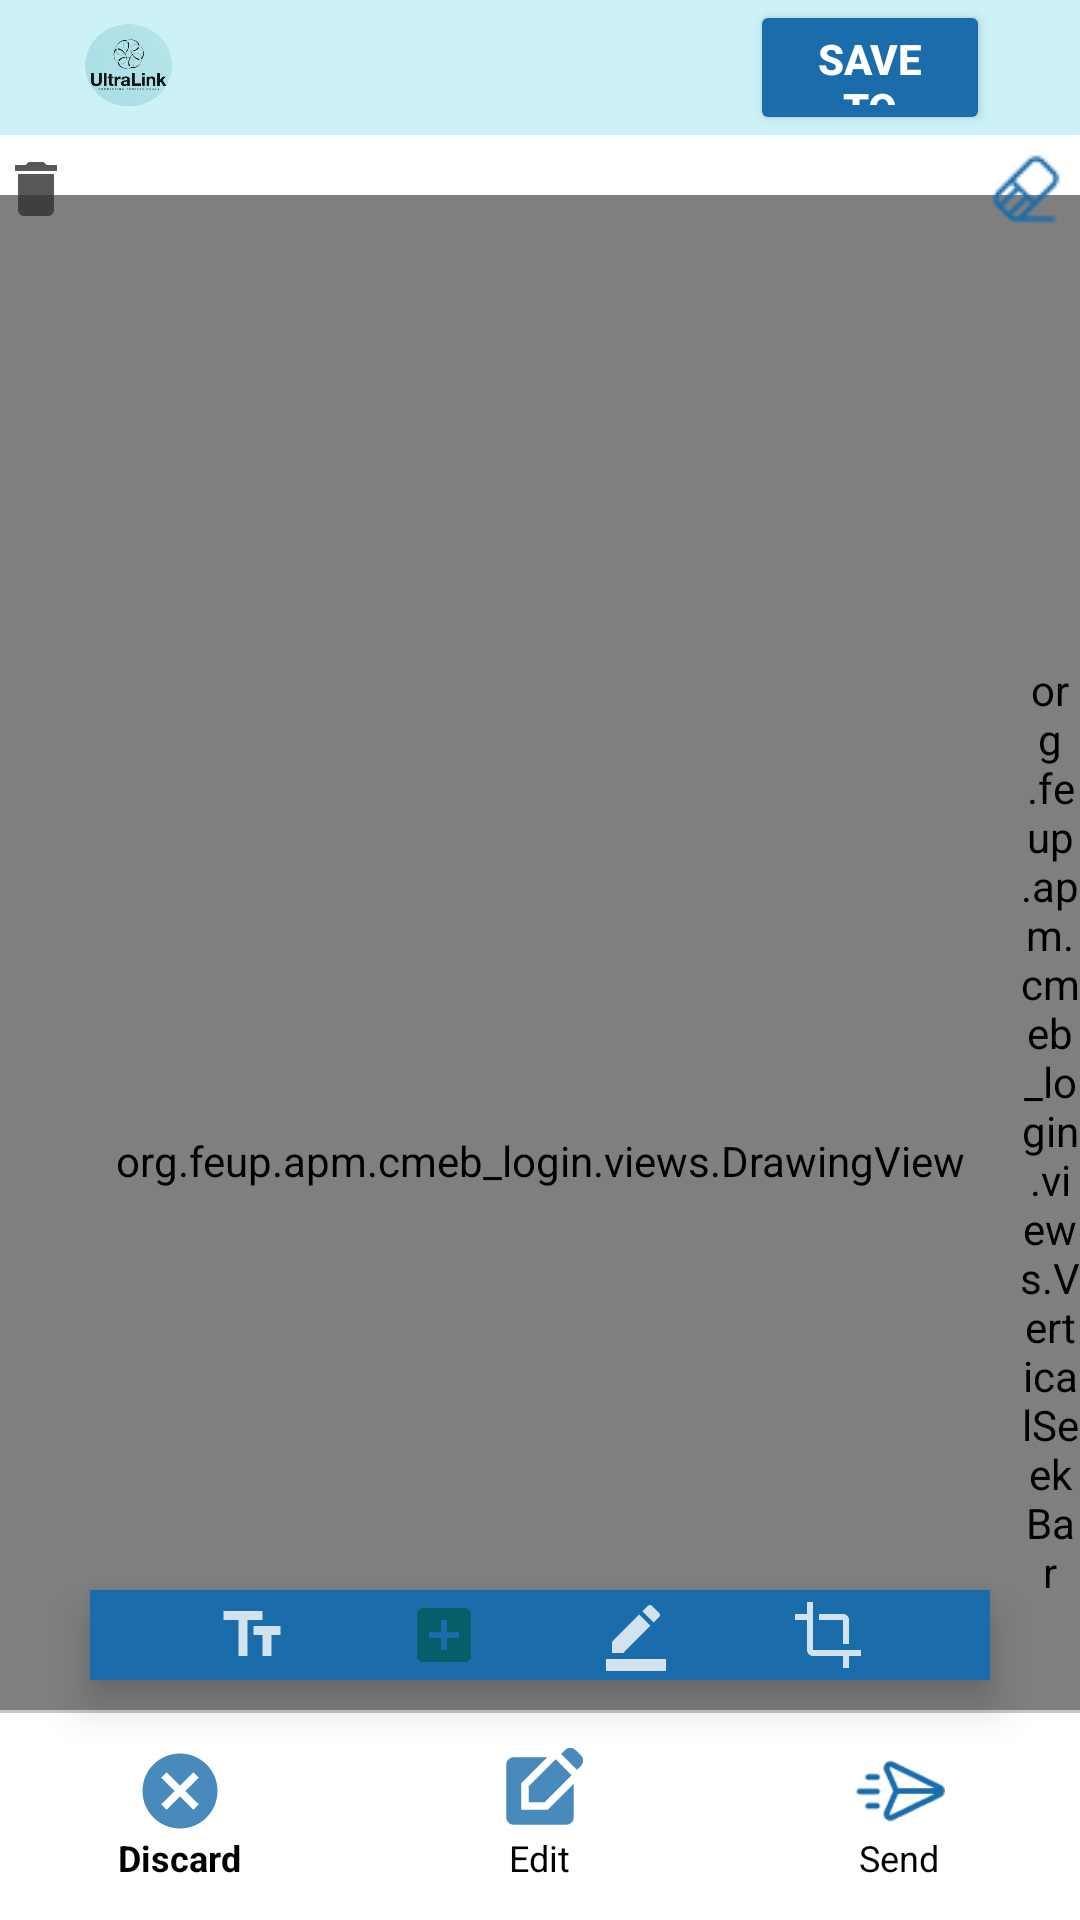

Screen size 1080*1920. Icon name, then its center in pixels as [x,y]:
crop: [828,1635]
Rubber: [1026,189]
text: [252,1633]
Trash: [36,189]
